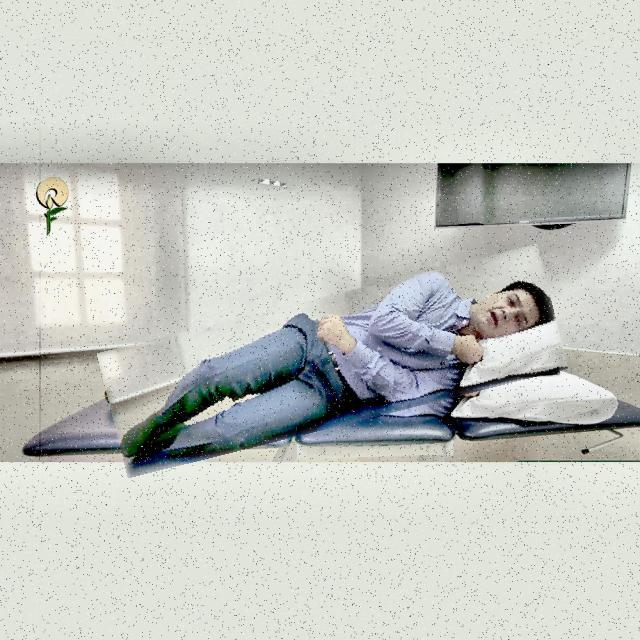Not_Supine: (120, 270, 554, 456)
